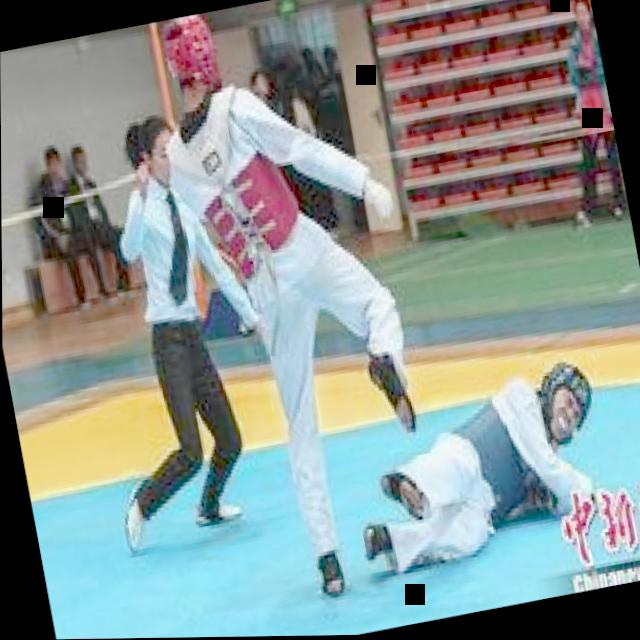Fall-Detected: (323, 327, 627, 586)
